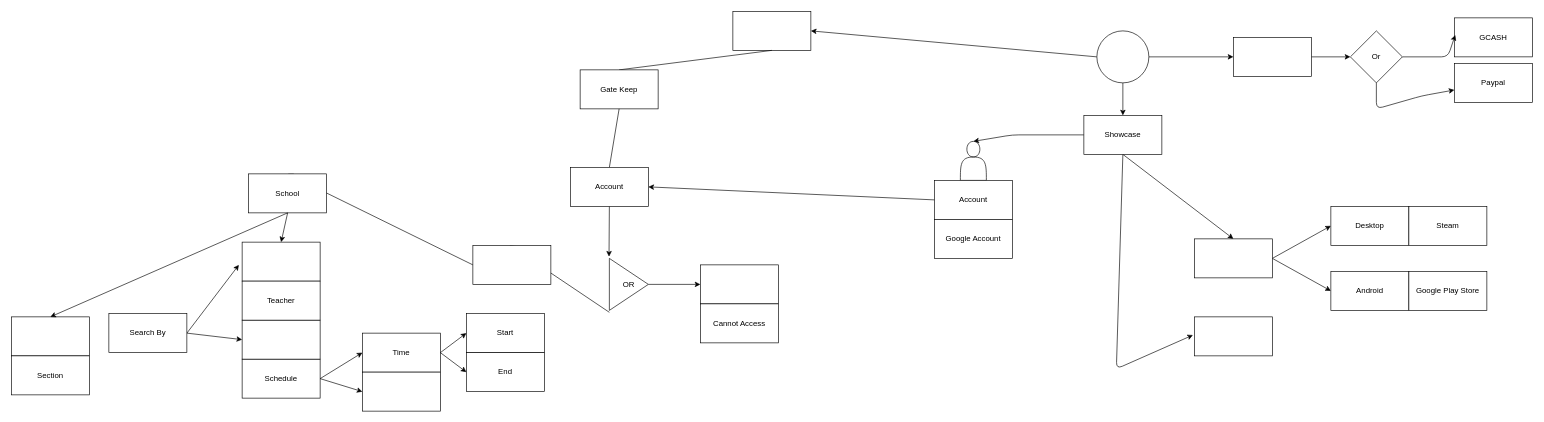
This 1544x422 diagram has some shape labels left out. The shapes that lost their labels are listed below. From the top down, each one's centre as x and y in pixels, then its label:
At (771,30): "Secret".
At (1122,56): "main".
At (1272,56): "Donate".
At (280,261): "Subject".
At (511,264): "Verified".
At (1233,258): "Games".
At (739,284): "Not Verified".
At (50,336): "Course".
At (280,339): "Code".
At (1233,336): "Software".
At (401,391): "Weeday".
